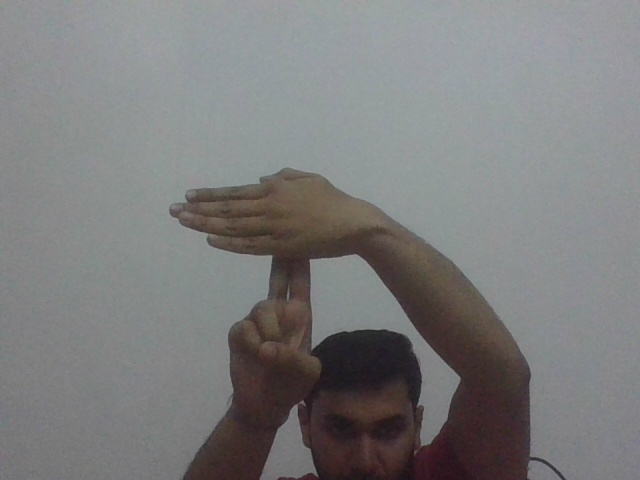N: (168, 166, 347, 293)
